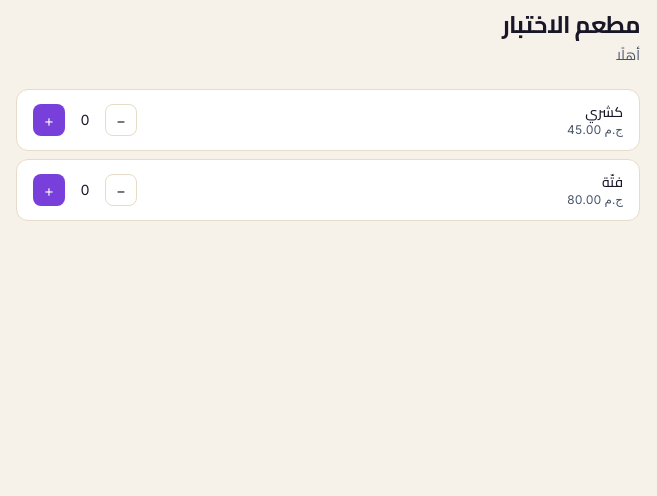
Test: tapping + quickly › counts every tap, not just the last render
Click the button named "إضافة كشري". click: point(49, 120)
box: [33,104,65,136]
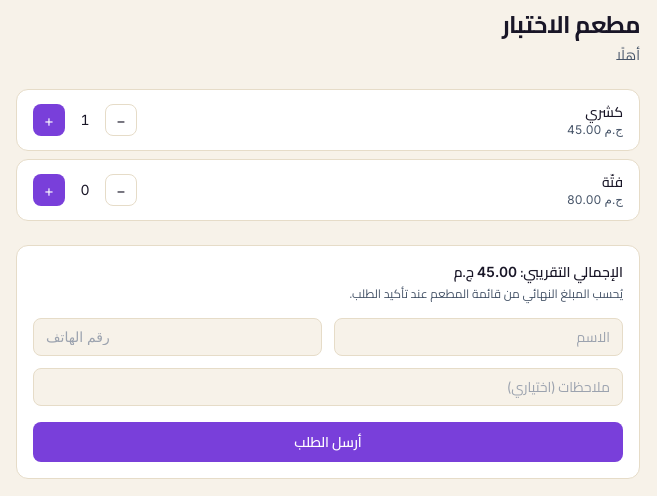
Click the button named "إضافة كشري". click: point(49, 120)
box: [33,104,65,136]
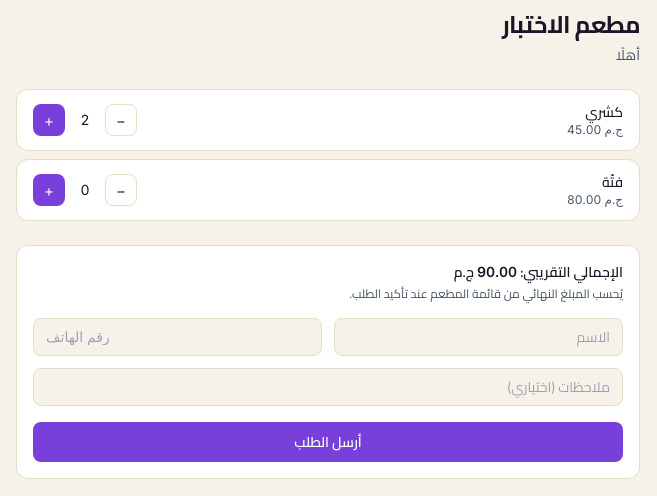
Click the button named "إضافة كشري". click: point(49, 120)
box: [33,104,65,136]
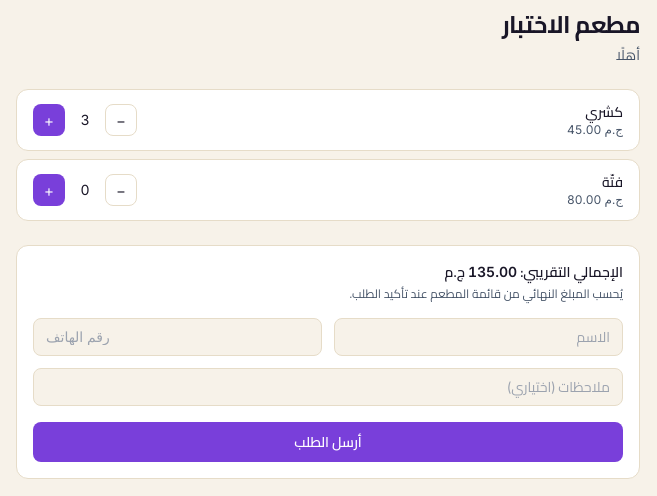
Result: the text with test id "basket-total" reads "135.00" at [468,263,517,280]
